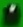black: (0, 0, 23, 27)
